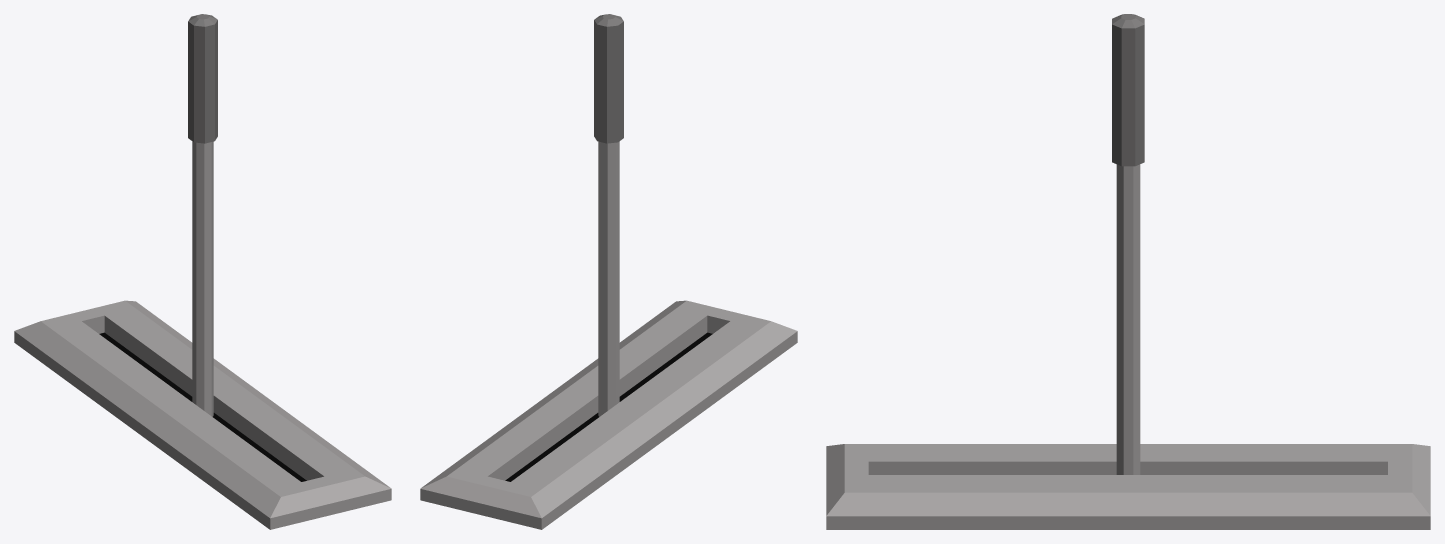
Rendered from MetalFloorLever_6.fbx.
3 views of the same model, side by side, from view 1: azimuth 30°, elevation 25°; view 2: azimuth 150°, elevation 25°; view 3: azimuth 270°, elevation 25° (orthographic). The views are drawn at different scales.
Visible parts, largest first — view 1: MetalFloorLever_6_Casing, MetalFloorLever_6_Handle; view 2: MetalFloorLever_6_Casing, MetalFloorLever_6_Handle; view 3: MetalFloorLever_6_Casing, MetalFloorLever_6_Handle.
Boxes of the visible parts, bbox=[...] form: MetalFloorLever_6_Casing: bbox=[14, 300, 391, 529]; MetalFloorLever_6_Handle: bbox=[188, 14, 217, 416]; MetalFloorLever_6_Casing: bbox=[420, 300, 797, 529]; MetalFloorLever_6_Handle: bbox=[594, 14, 623, 416]; MetalFloorLever_6_Casing: bbox=[826, 444, 1430, 529]; MetalFloorLever_6_Handle: bbox=[1112, 14, 1144, 474].
Bounding box in the file's own units: 23.61 × 75.08 × 86.08.
